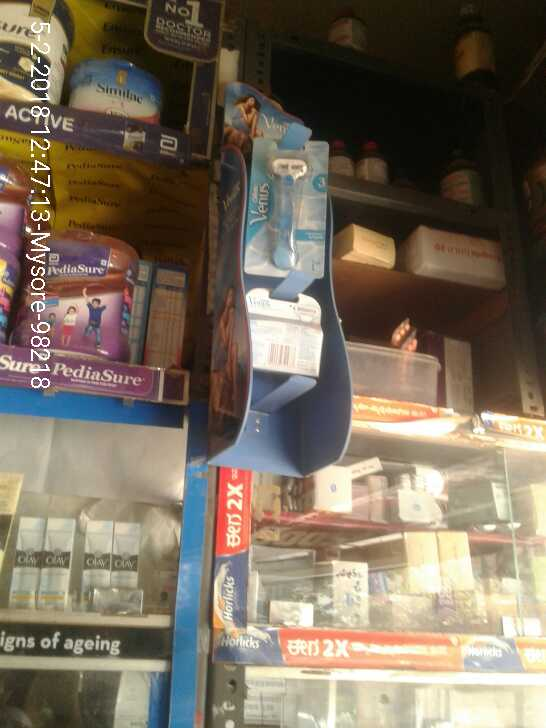beauty: (245, 135, 328, 279), (38, 514, 72, 612), (111, 515, 139, 619), (9, 512, 38, 609), (81, 514, 108, 611)
